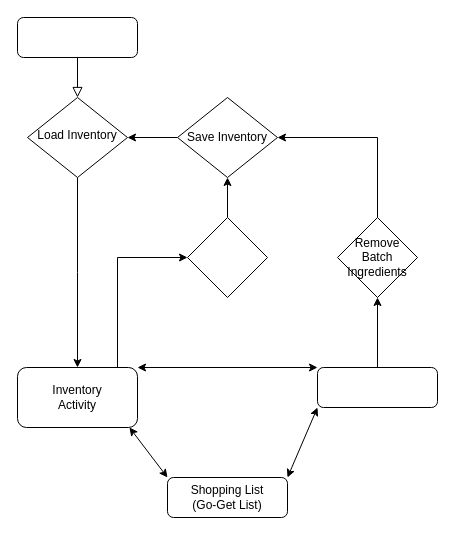
The diagram is 455 pixels wide and 535 high, and some of its shapes have lost their labels. Each missing label, with the centre of its shape:
Add Remove Edit: the point at 227,257
Application Start: the point at 77,37
Batch Calculator Activity: the point at 377,387
